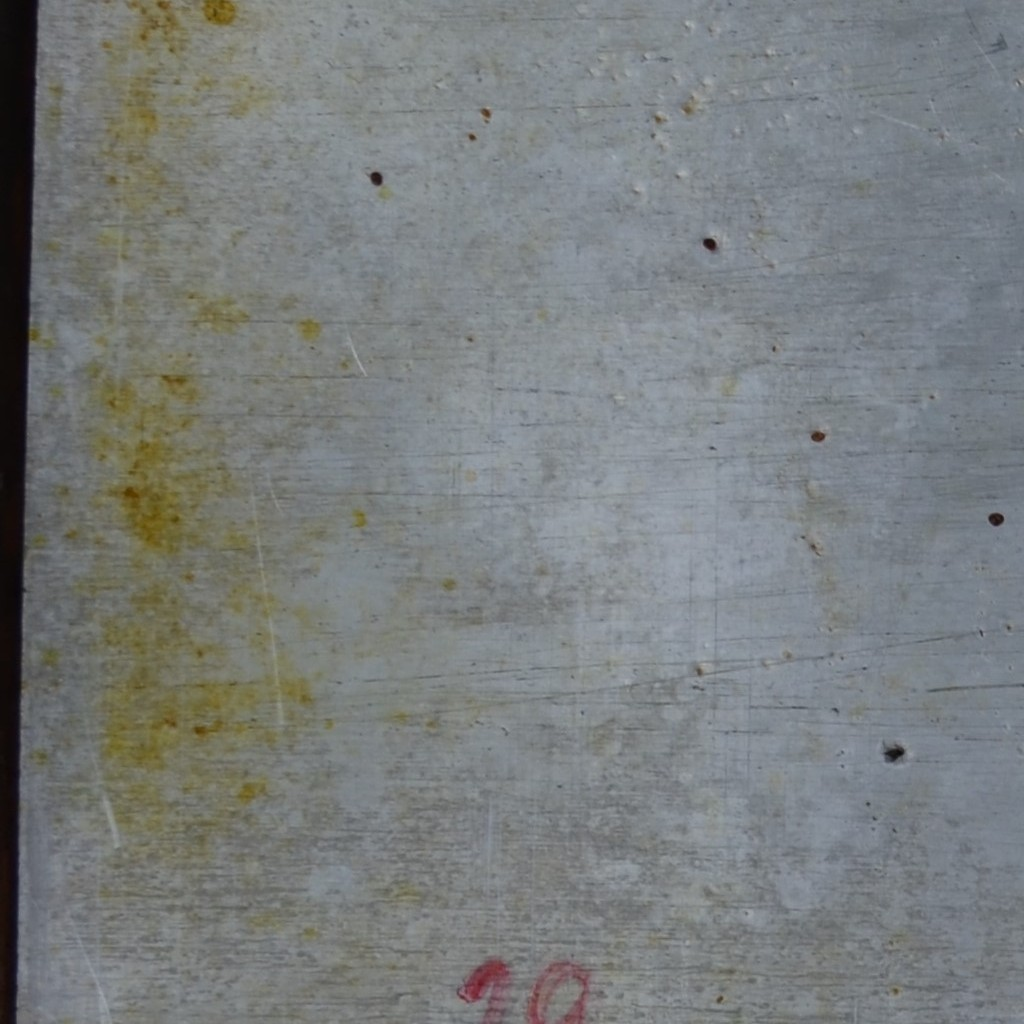varroa: (699, 233, 718, 252), (986, 509, 1005, 528), (367, 168, 383, 188)
